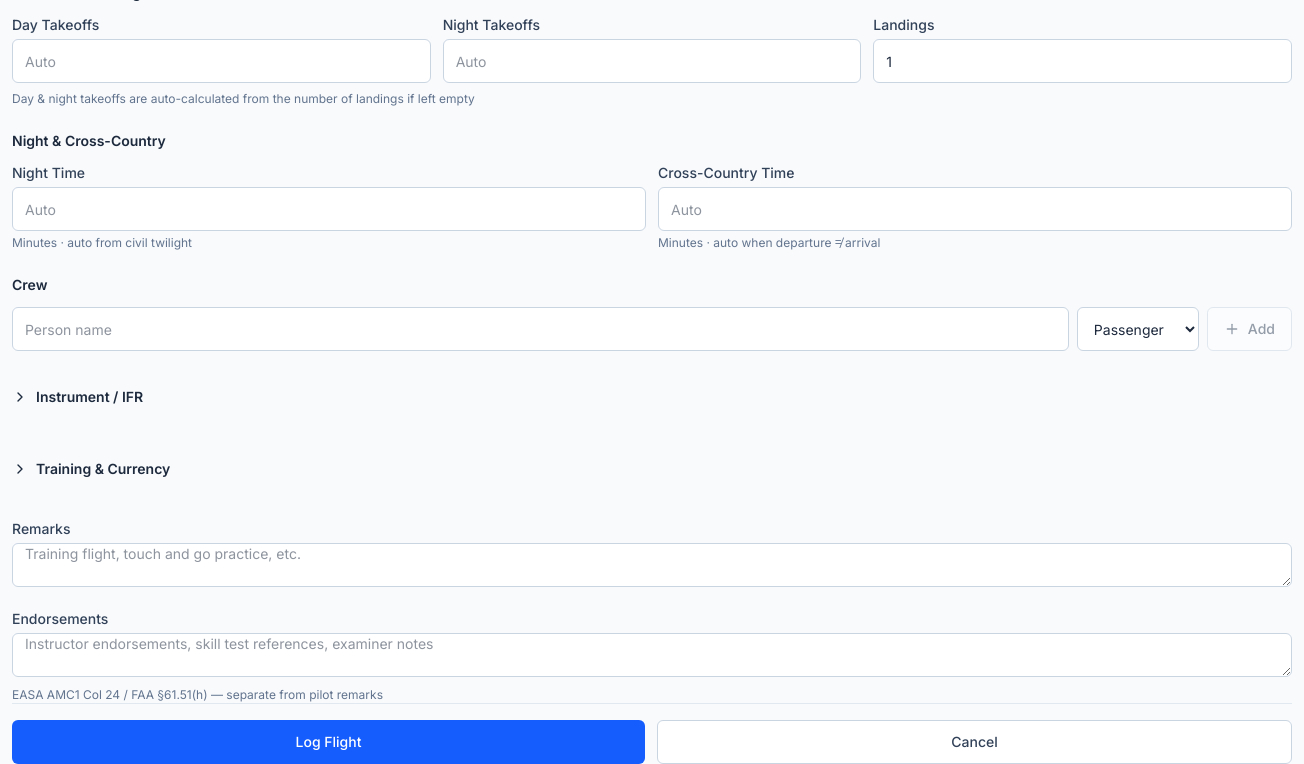
Test: FlightForm Instrument Tracking › renders proficiency check checkbox
(page scrolled)
Click the button "Training & Currency" at (103, 468), box [12,447,1292,491]
(page scrolled)
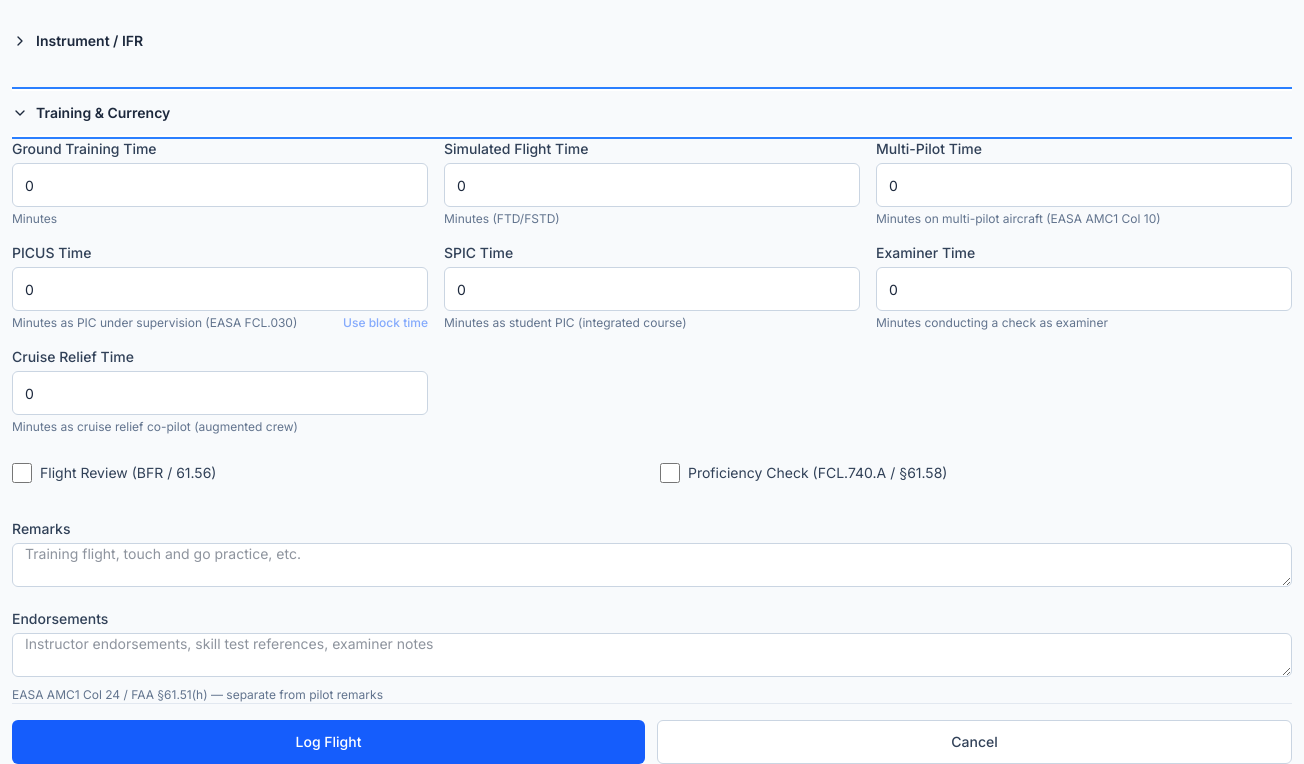
Expected: the checkbox labelled "Proficiency Check (FCL.740.A / §61.58)" is not checked, [660,463,680,483]
